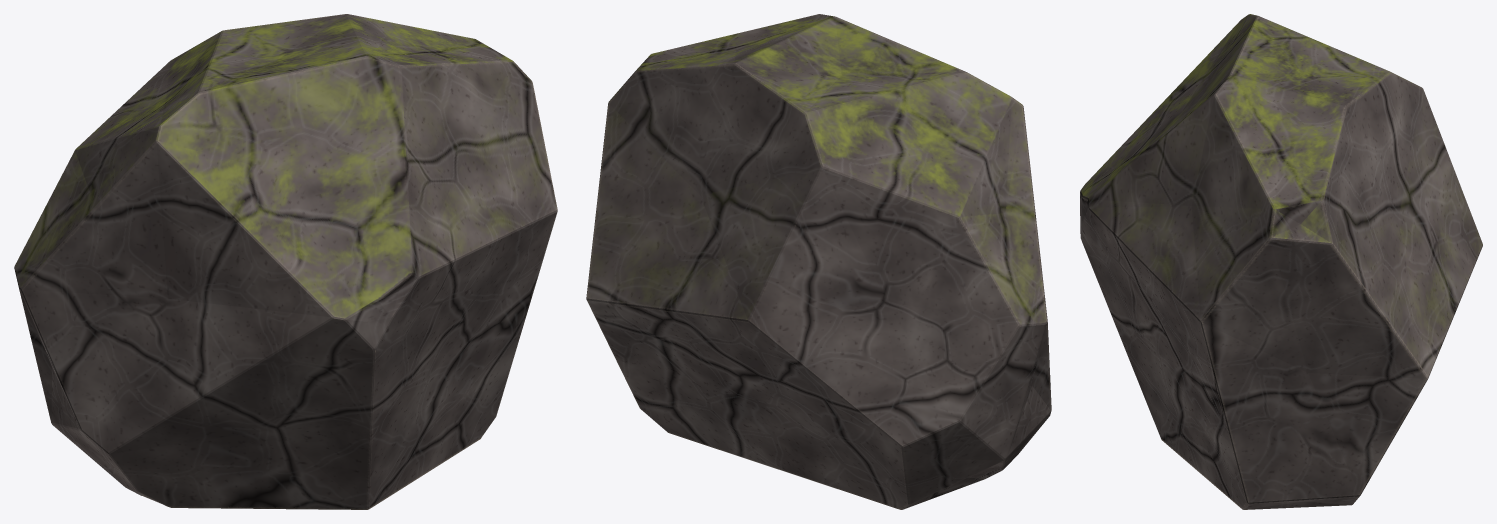
File: Stone_Boulder_A.fbx
3 views of the same model, side by side, from view 1: azimuth 30°, elevation 25°; view 2: azimuth 150°, elevation 25°; view 3: azimuth 270°, elevation 25° (orthographic). The views are drawn at different scales.
Visible parts, largest first — view 1: Stone_Boulder_A; view 2: Stone_Boulder_A; view 3: Stone_Boulder_A.
Part boxes in pixels (<box>): Stone_Boulder_A: <box>14,14,557,509</box>; Stone_Boulder_A: <box>586,14,1051,509</box>; Stone_Boulder_A: <box>1080,14,1482,509</box>.
Bounding box in the file's own units: 1.34 × 1.13 × 1.08.
